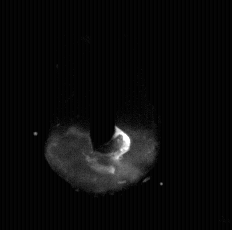arame: (91, 0, 117, 154)
poca: (46, 0, 156, 230)
